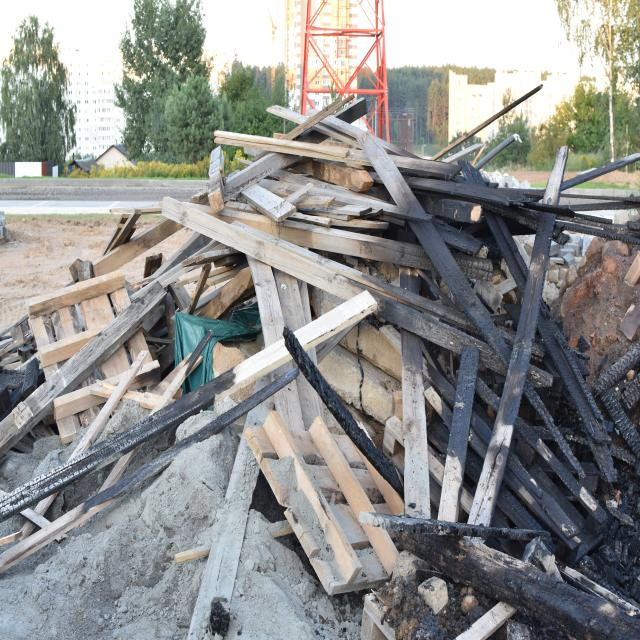entulho: (302, 255, 504, 534), (249, 412, 429, 595), (494, 404, 636, 614), (13, 276, 170, 454), (428, 158, 557, 366), (164, 189, 335, 324), (220, 122, 427, 192), (86, 212, 188, 277)
terra: (546, 215, 638, 388)
